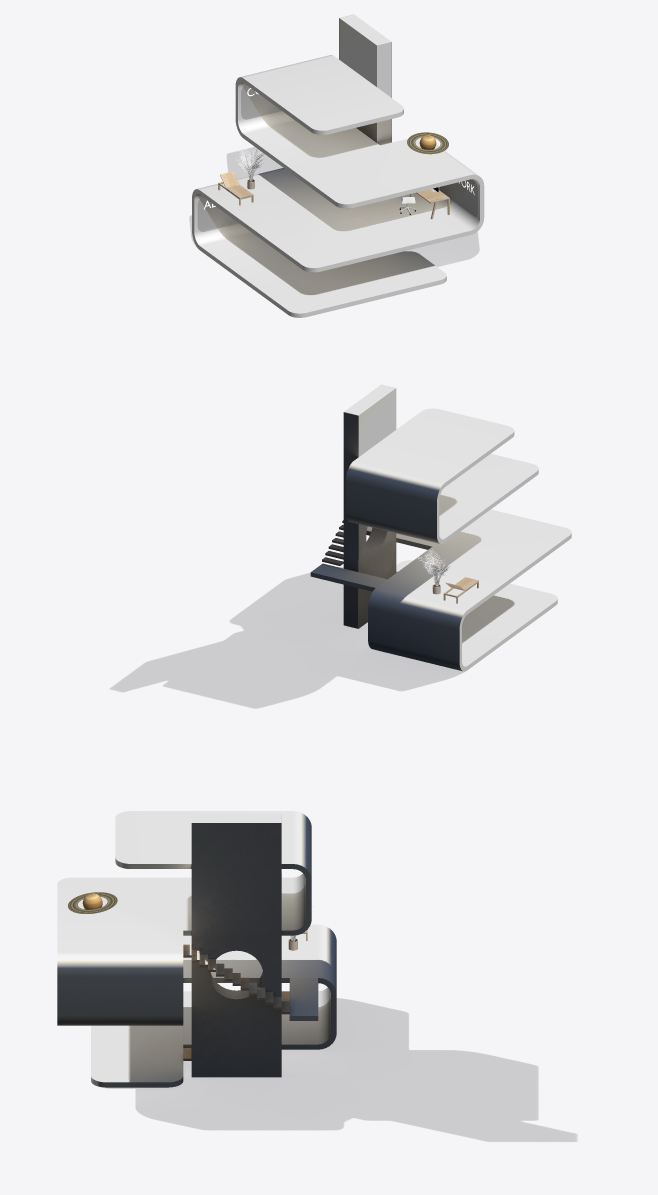
The model's file is ArchetypeHouse.glb.
3 renders of one model, top to bottom at view 1: azimuth 30°, elevation 25°; view 2: azimuth 150°, elevation 25°; view 3: azimuth 270°, elevation 25°, orthographic. The views are drawn at different scales.
Visible parts, largest first — view 1: Floors, Column, Shadow, Overlay2, Overlay3, Overlay1, Saturn, Lounger, Palm; view 2: Floors, Shadow, Column, Landing; view 3: Floors, Shadow, Column, Stairs, Landing, Saturn.
Part boxes in pixels (<box>): Floors: <box>192,55,484,317</box>; Column: <box>339,14,391,145</box>; Shadow: <box>190,148,478,266</box>; Overlay2: <box>439,179,477,216</box>; Overlay3: <box>241,85,281,119</box>; Overlay1: <box>198,197,238,231</box>; Saturn: <box>407,132,448,154</box>; Lounger: <box>218,171,253,205</box>; Palm: <box>235,147,264,181</box>; Floors: <box>346,408,571,671</box>; Shadow: <box>111,567,463,707</box>; Column: <box>343,384,396,628</box>; Landing: <box>310,563,387,591</box>; Floors: <box>57,811,336,1087</box>; Shadow: <box>110,998,575,1141</box>; Column: <box>191,814,281,1077</box>; Stairs: <box>183,944,289,1060</box>; Landing: <box>289,978,318,1020</box>; Saturn: <box>68,892,117,913</box>.
Size of the model in its own units: 16 by 8.92 by 20.
22 materials, 9 textured.
